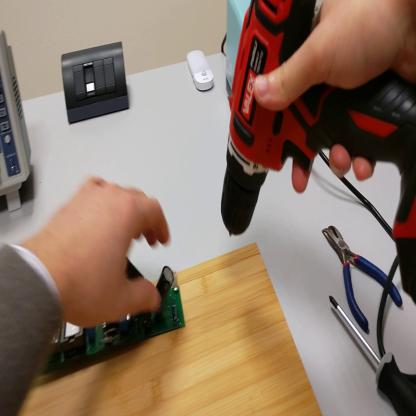electric screwdriver: (219, 3, 416, 305)
hand: (253, 2, 416, 197), (41, 177, 169, 328)
high voltage board: (58, 269, 187, 378)
oscilloscope: (2, 30, 33, 212)
pliers: (324, 222, 404, 331)
screwdriver-: (329, 289, 416, 416)
welder station: (226, 2, 252, 108)
working area: (11, 244, 325, 416)
